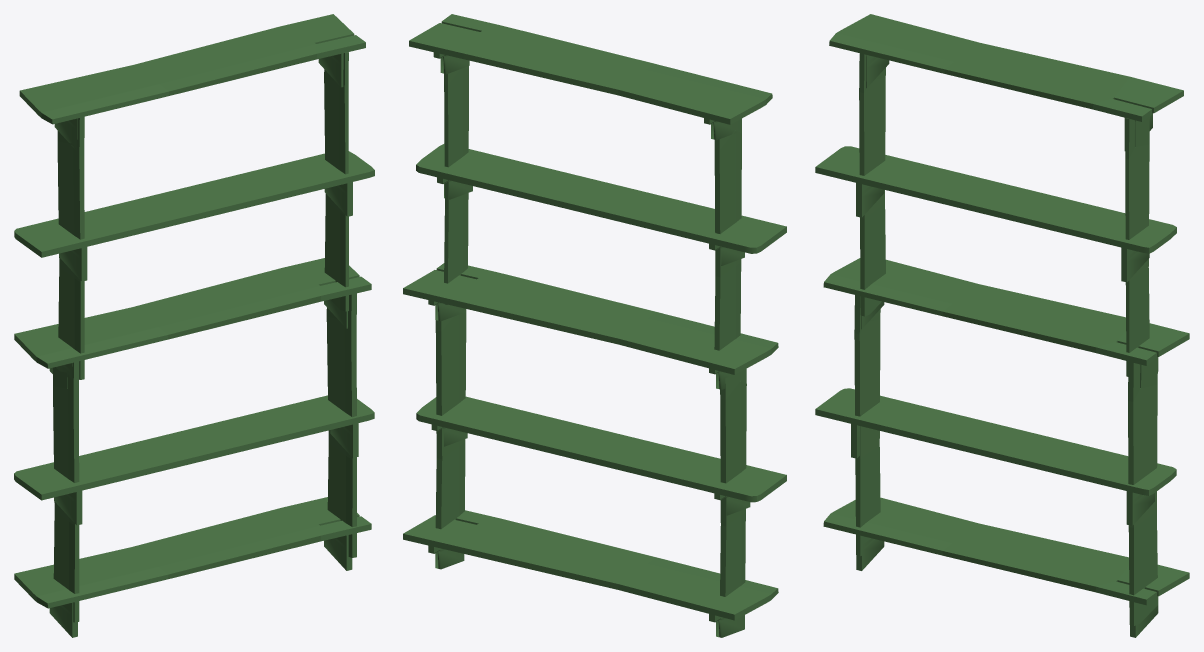
Rendered from Shelf_Grp_09_Lod0.fbx.
3 renders of one model, left to right at view 1: azimuth 30°, elevation 25°; view 2: azimuth 150°, elevation 25°; view 3: azimuth 330°, elevation 25°, orthographic. The views are drawn at different scales.
Parts seen in each view (by area): view 1: Shelf_Grp_09_Lod0; view 2: Shelf_Grp_09_Lod0; view 3: Shelf_Grp_09_Lod0.
Boxes of the visible parts, x1,y1,x2,y2 form: Shelf_Grp_09_Lod0: (14,14,374,637); Shelf_Grp_09_Lod0: (403,14,786,637); Shelf_Grp_09_Lod0: (815,14,1189,637).
Bounding box in the file's own units: 221 × 332 × 44.63.
